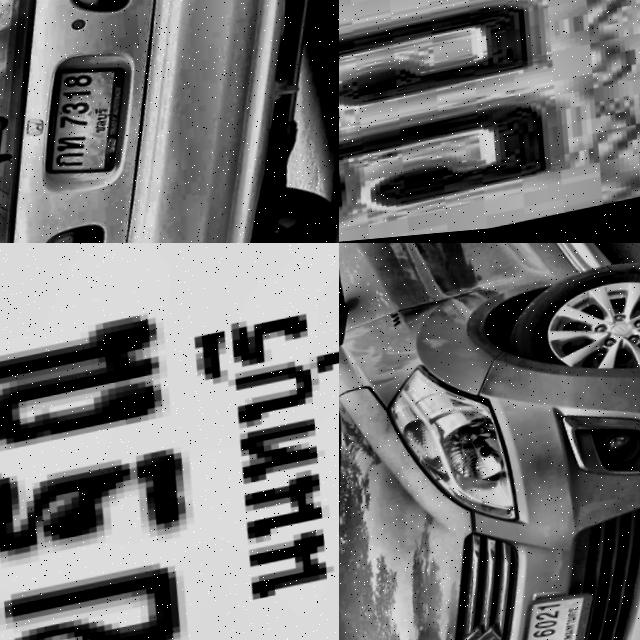license-plate: (0, 243, 339, 640), (339, 0, 640, 243), (31, 59, 140, 190), (503, 589, 607, 640)
